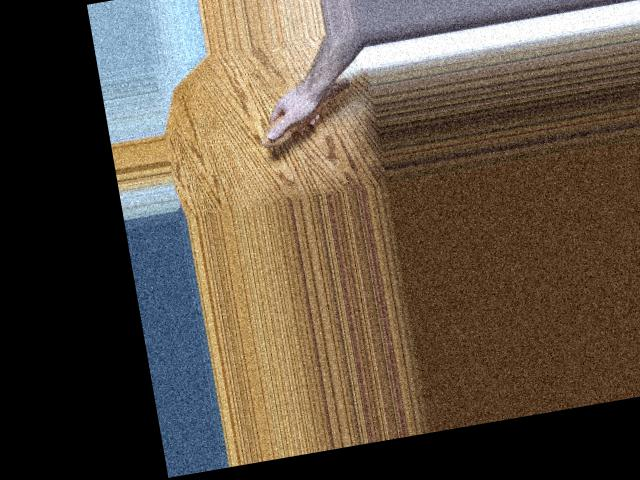sweet_potato: (251, 73, 374, 150)
